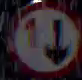Two way: (7, 2, 81, 78)
